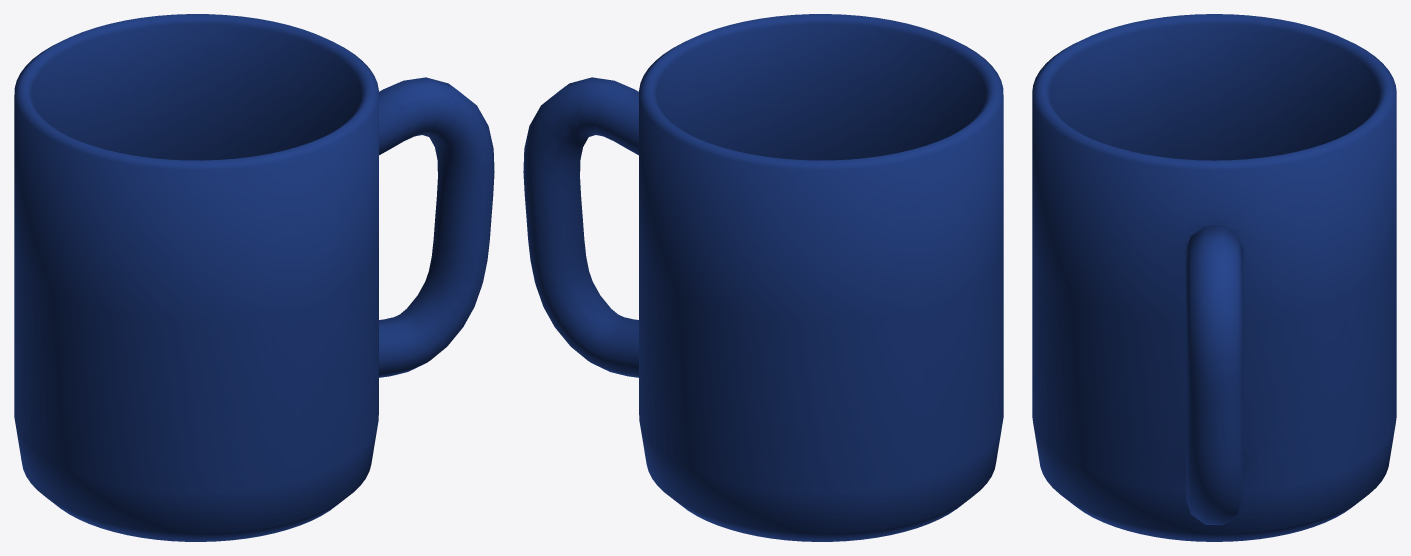
Rendered from cobalt.glb.
3 views of the same model, side by side, from view 1: azimuth 30°, elevation 25°; view 2: azimuth 150°, elevation 25°; view 3: azimuth 270°, elevation 25° (orthographic).
Visible parts, largest first — view 1: ceramic_primary; view 2: ceramic_primary; view 3: ceramic_primary.
Part boxes in pixels (x1,y1,x2,y2): ceramic_primary: [14, 14, 494, 541]; ceramic_primary: [523, 14, 1003, 541]; ceramic_primary: [1032, 14, 1396, 541].
Size of the model in its own units: 0.1172 by 0.0964 by 0.082.
Materials: 1 (1 with a texture image).
